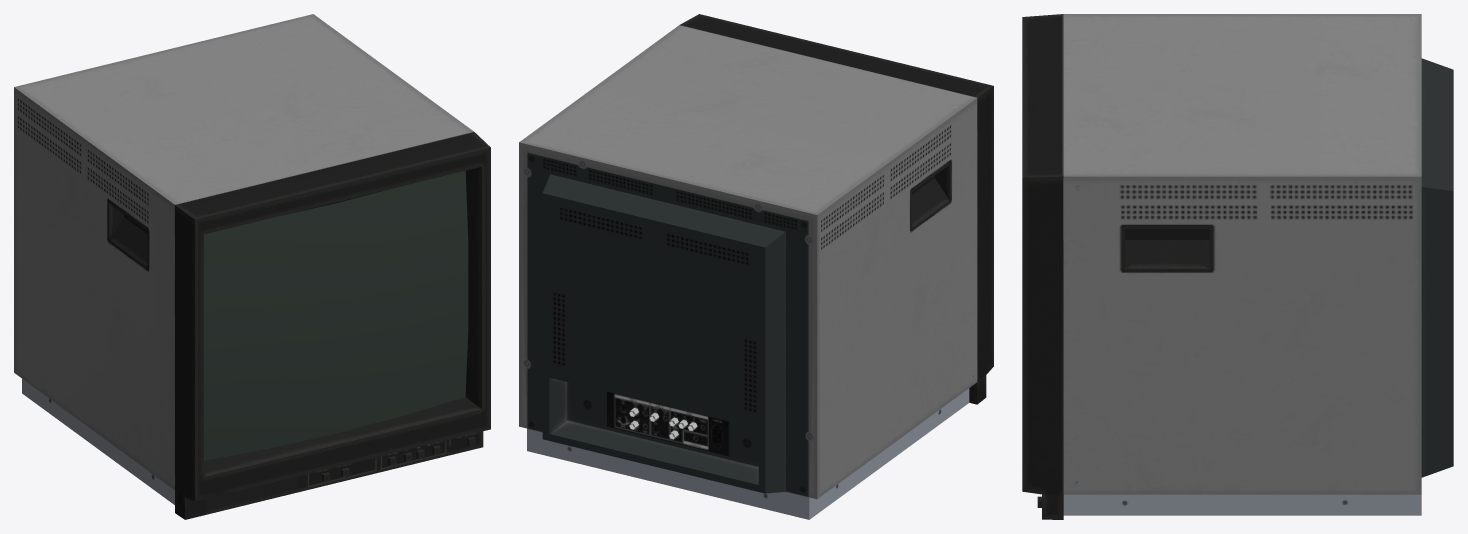
The model's file is Monitor_color.fbx.
The picture shows the model from 3 angles, left to right: view 1: azimuth 30°, elevation 25°; view 2: azimuth 150°, elevation 25°; view 3: azimuth 270°, elevation 25°; orthographic projection. The views are drawn at different scales.
Visible parts, largest first — view 1: Monitor_color; view 2: Monitor_color; view 3: Monitor_color.
Boxes of the visible parts, bbox=[...] form: Monitor_color: bbox=[14, 14, 490, 519]; Monitor_color: bbox=[519, 14, 993, 519]; Monitor_color: bbox=[1022, 14, 1453, 519].
Bounding box in the file's own units: 44.84 × 44.1 × 50.2.
